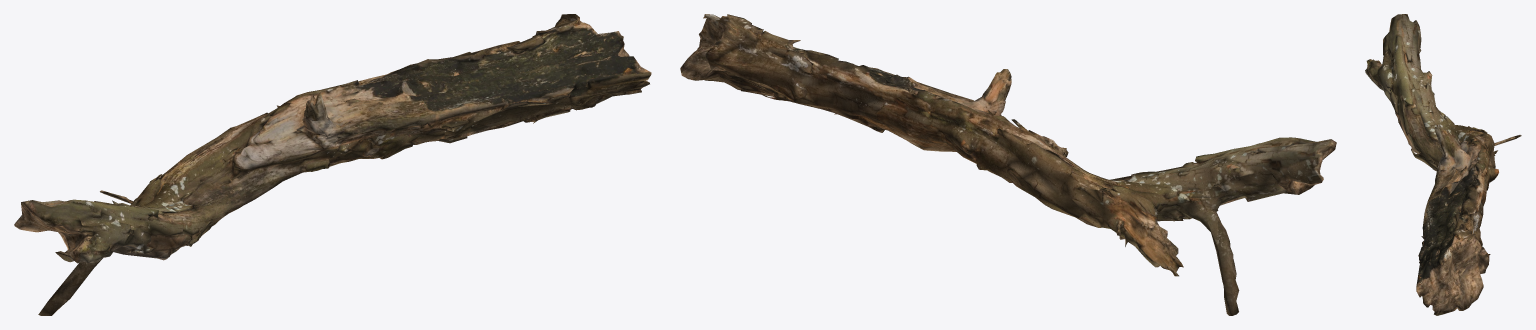
File: log.glb
3 views of the same model, side by side, from view 1: azimuth 30°, elevation 25°; view 2: azimuth 150°, elevation 25°; view 3: azimuth 270°, elevation 25° (orthographic). The views are drawn at different scales.
Parts seen in each view (by area): view 1: dead_tree_trunk_02; view 2: dead_tree_trunk_02; view 3: dead_tree_trunk_02.
Part boxes in pixels (<box>): dead_tree_trunk_02: <box>14,14,651,315</box>; dead_tree_trunk_02: <box>680,14,1336,315</box>; dead_tree_trunk_02: <box>1365,14,1521,315</box>.
Bounding box in the file's own units: 4.05 × 1.05 × 1.05.
Materials: 1 (1 with a texture image).
